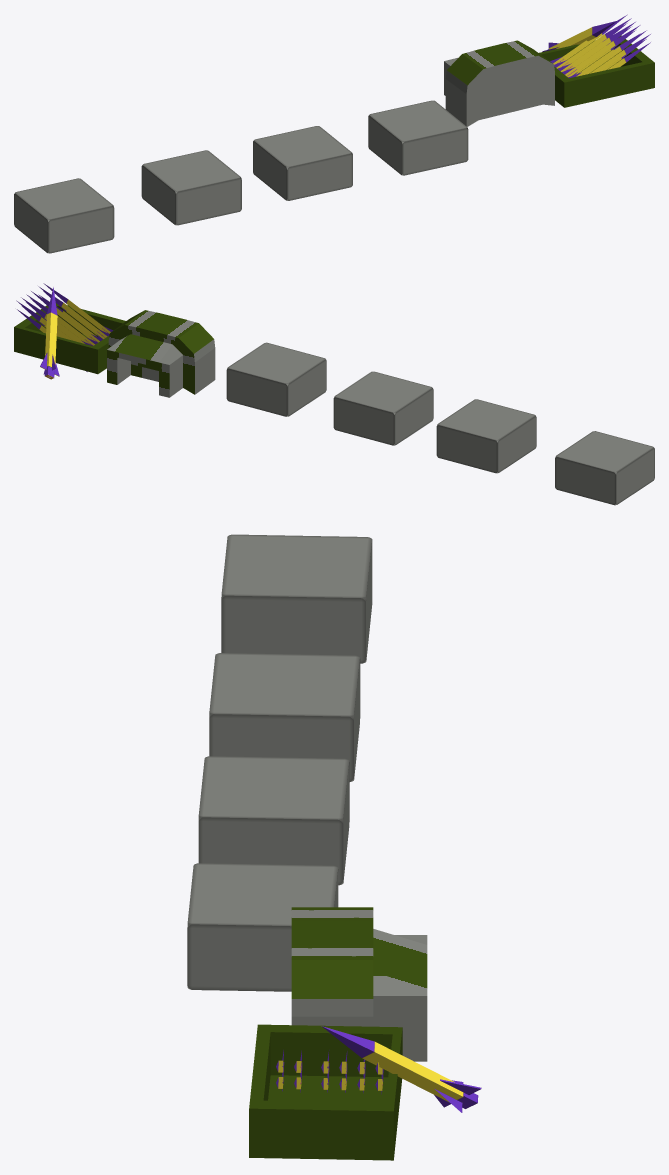
The model's file is Shop.fbx.
The picture shows the model from 3 angles, top to bottom: view 1: azimuth 30°, elevation 25°; view 2: azimuth 150°, elevation 25°; view 3: azimuth 270°, elevation 25°; orthographic projection. The views are drawn at different scales.
Parts seen in each view (by area): view 1: cuboid, cuboid_15, cuboid_17, cuboid_18, cuboid_16, cuboid_1, cuboid_14, cuboid_11, cuboid_9, cuboid_10, cuboid_12; view 2: cuboid, cuboid_16, cuboid_15, cuboid_17, cuboid_18, cuboid_1, cuboid_14, cuboid_12, cuboid_13, cuboid_11; view 3: cuboid_18, cuboid_1, cuboid_16, cuboid, cuboid_17, cuboid_15, cuboid_14.
Boxes of the visible parts, x1,y1,x2,y2 form: cuboid: [444, 40, 554, 126]; cuboid_15: [368, 100, 468, 175]; cuboid_17: [141, 150, 241, 225]; cuboid_18: [14, 178, 114, 253]; cuboid_16: [253, 126, 352, 200]; cuboid_1: [539, 35, 654, 107]; cuboid_14: [542, 21, 616, 51]; cuboid_11: [561, 25, 640, 77]; cuboid_9: [554, 18, 631, 68]; cuboid_10: [557, 22, 635, 71]; cuboid_12: [568, 30, 646, 78]; cuboid: [107, 310, 215, 397]; cuboid_16: [333, 371, 433, 445]; cuboid_15: [226, 342, 326, 416]; cuboid_17: [436, 399, 536, 473]; cuboid_18: [555, 431, 654, 505]; cuboid_1: [14, 303, 125, 374]; cuboid_14: [40, 287, 59, 379]; cuboid_12: [38, 286, 109, 339]; cuboid_13: [43, 283, 113, 333]; cuboid_11: [31, 291, 102, 342]; cuboid_18: [221, 534, 372, 663]; cuboid_1: [249, 1024, 402, 1160]; cuboid_16: [198, 756, 349, 885]; cuboid: [291, 907, 427, 1061]; cuboid_17: [209, 653, 360, 781]; cuboid_15: [187, 863, 338, 991]; cuboid_14: [321, 1026, 481, 1112].
Bounding box in the file's own units: 961 × 105 × 203.
4 materials, 4 textured.
